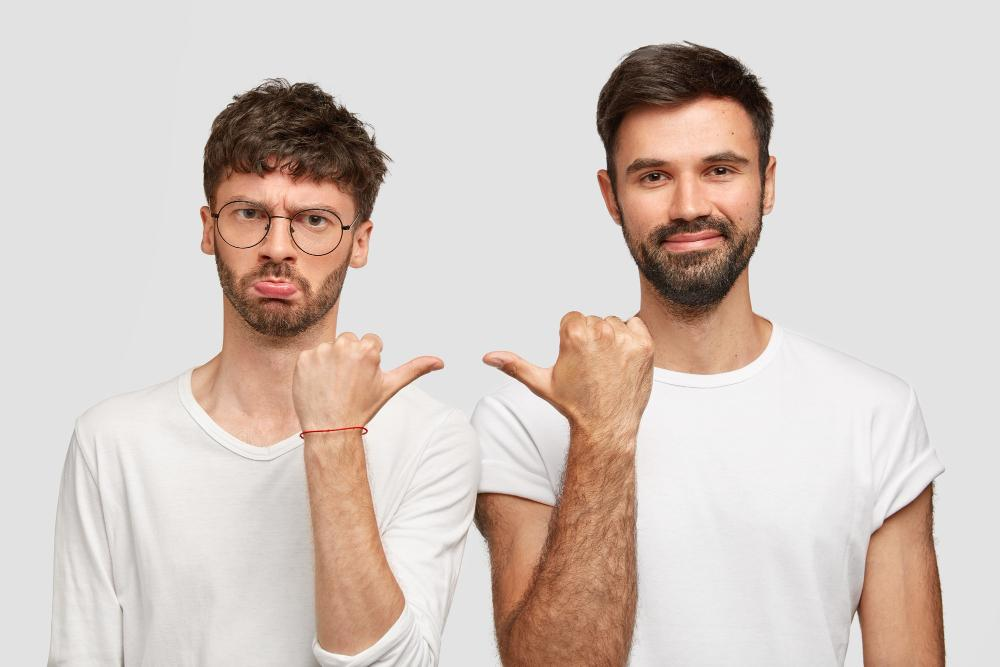feliz: (590, 43, 780, 312)
triste: (192, 76, 385, 338)
